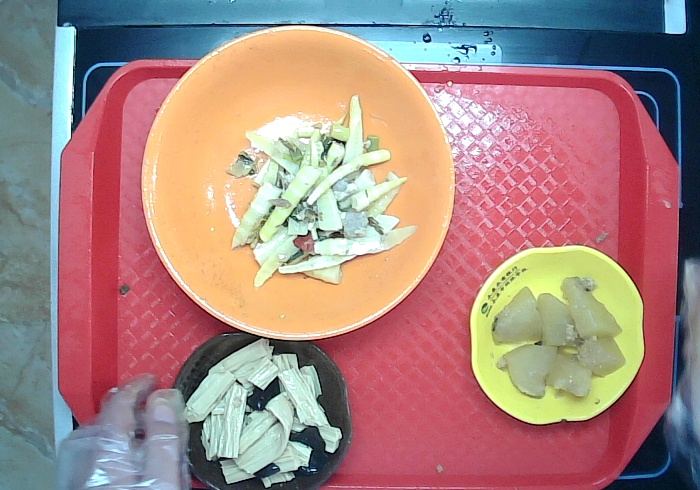YKMZ-Huang_Se_Ao_Bian_Wan: (468, 243, 647, 427)
YKMZ-Ju_Se_Tang_Wan: (139, 24, 457, 341)
YKMZ-Ka_Fei_Ao_Bian_Wan: (172, 330, 353, 490)
